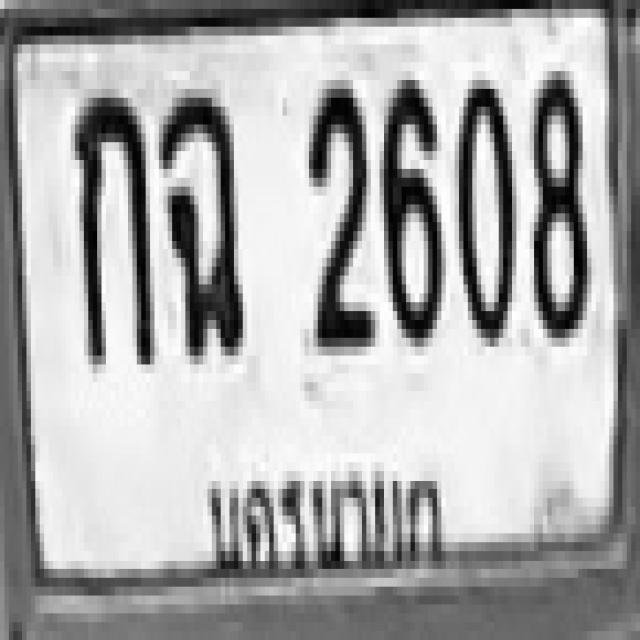0: (455, 71, 512, 338)
10GorGai: (71, 84, 150, 360)
18ChorChing: (159, 89, 238, 355)
2: (306, 76, 368, 342)
6: (382, 71, 439, 338)
8: (530, 67, 582, 333)
NakhonNayok: (197, 446, 453, 586)
